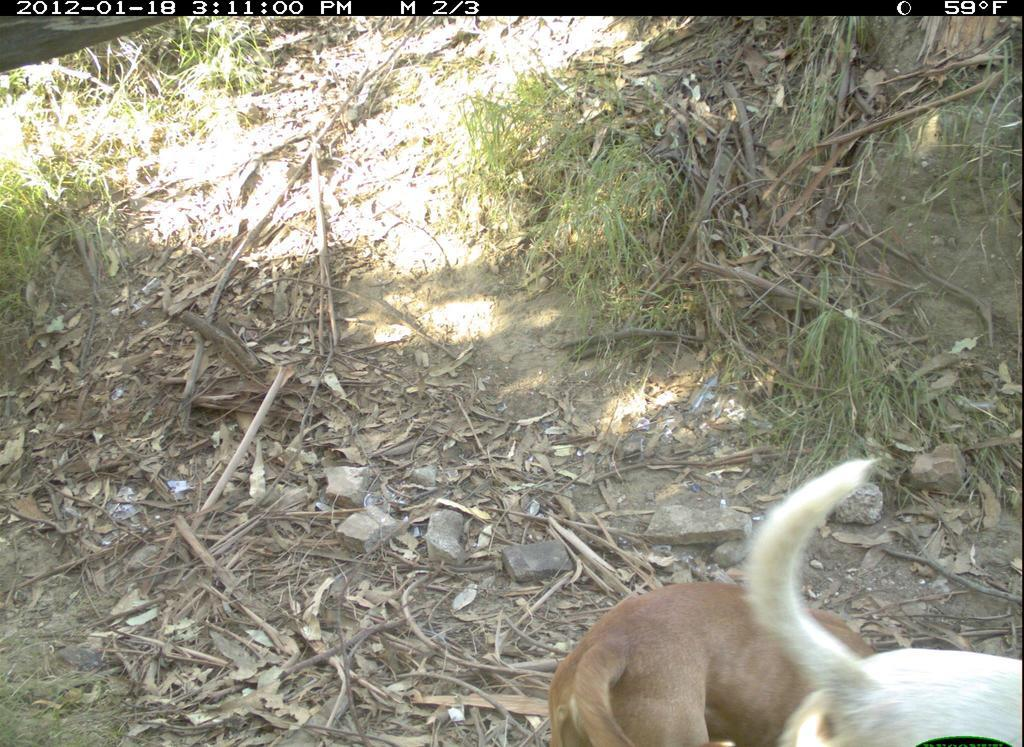dog: (542, 579, 886, 747)
